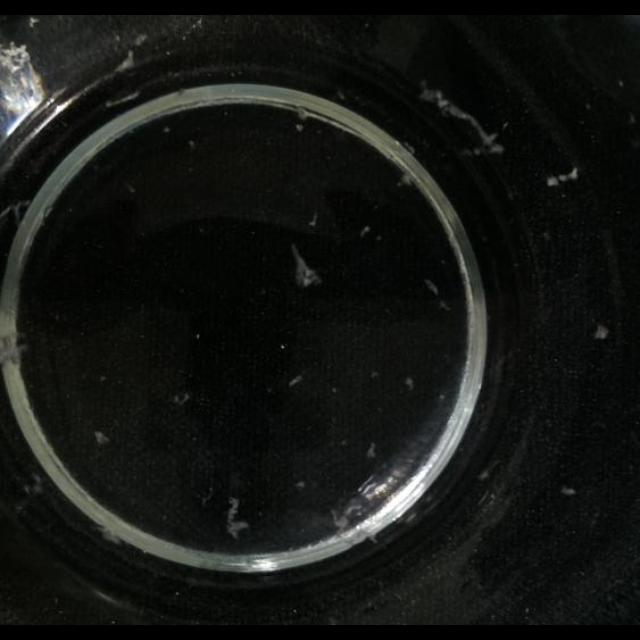Fibre: (284, 242, 328, 292), (0, 324, 32, 376), (1, 194, 37, 240), (226, 496, 250, 538), (474, 132, 504, 158), (113, 48, 137, 74), (330, 507, 352, 531), (420, 85, 446, 105), (102, 528, 126, 546), (398, 170, 416, 188), (424, 278, 440, 296), (173, 392, 191, 406), (296, 107, 312, 121), (367, 442, 378, 460), (308, 210, 318, 227), (361, 225, 372, 237), (404, 376, 414, 389)
microbeads: (546, 166, 578, 187), (594, 322, 610, 340), (93, 430, 109, 446), (560, 486, 576, 496), (547, 176, 559, 187)
